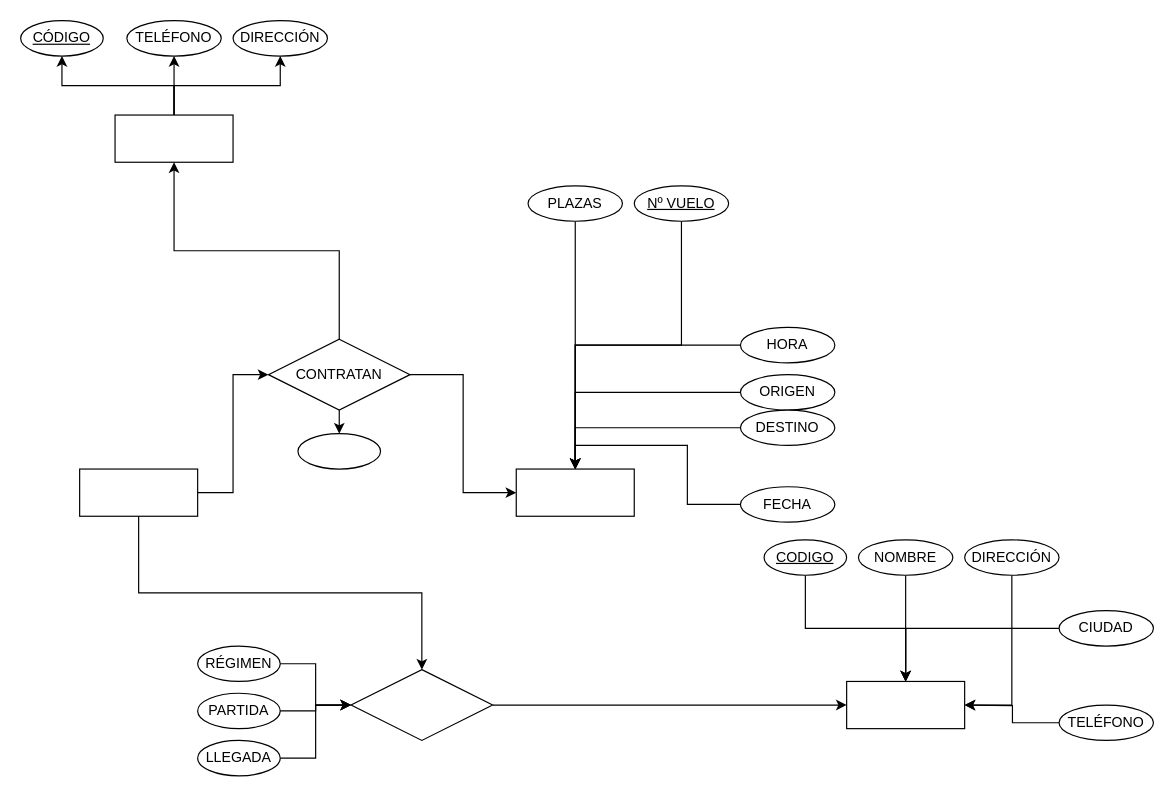
Some shapes in this 1174 by 796 pixel diagram are drawn without their labels. The shapes that lost their labels are listed below. From the top down, each one's box as (x1, y1, x2, y2) in pixels, then its label:
(114, 114, 233, 162): SUCURSALES
(297, 432, 381, 469): CLASE
(78, 468, 198, 516): TURISTAS
(515, 468, 634, 516): VUELOS
(350, 668, 493, 740): HOSPEDA
(845, 680, 965, 729): HOTEL
